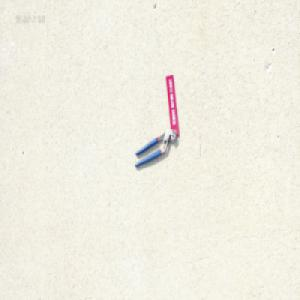Label: (165, 72, 179, 135)
Pliers: (134, 129, 176, 167)
